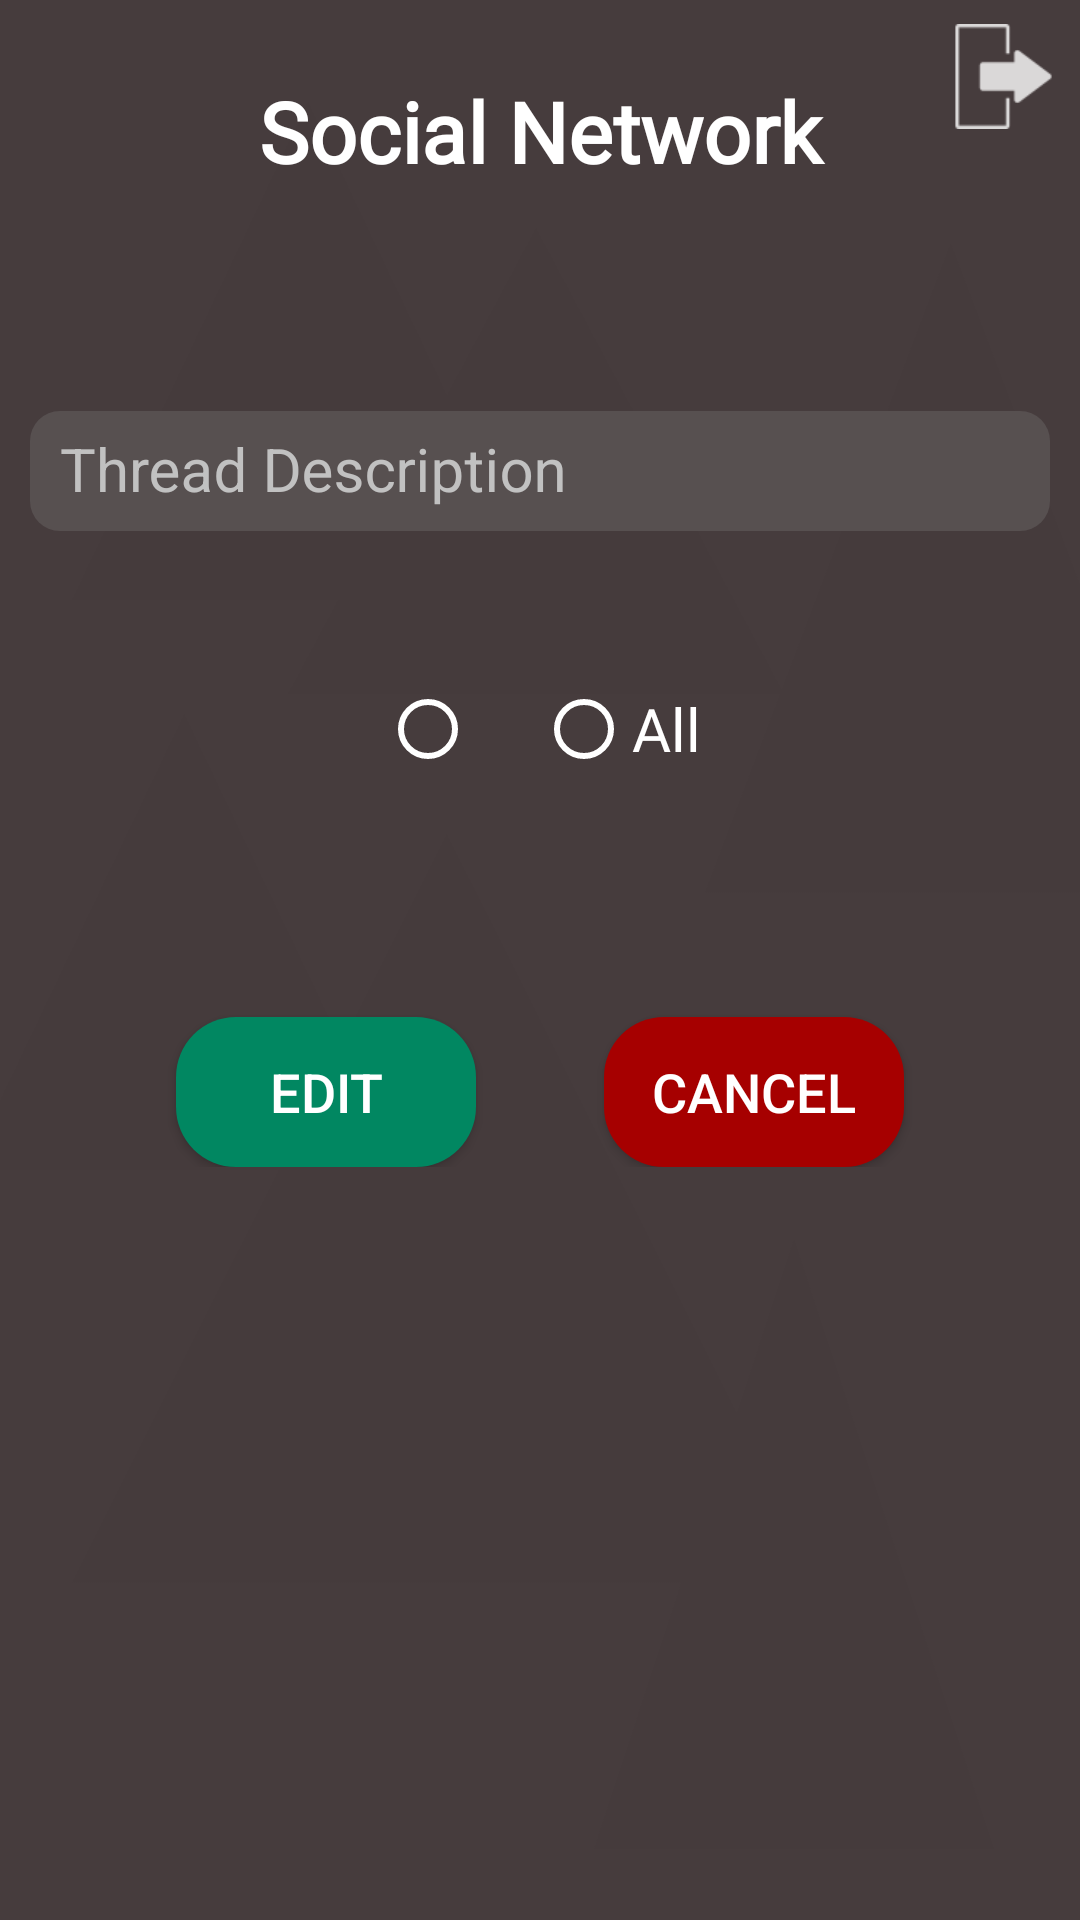

Icon bounding boxes for this 1080 x 1920 phone screenshot, format [x1=x1, y1=y1, x2=x2, y2=y2]:
log out: [x1=955, y1=24, x2=1052, y2=129]
